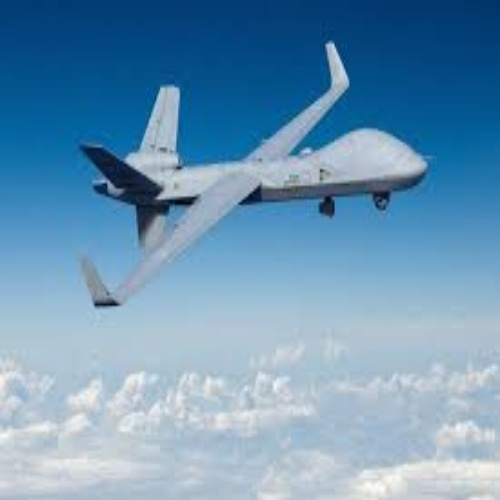uav: (62, 40, 431, 310)
